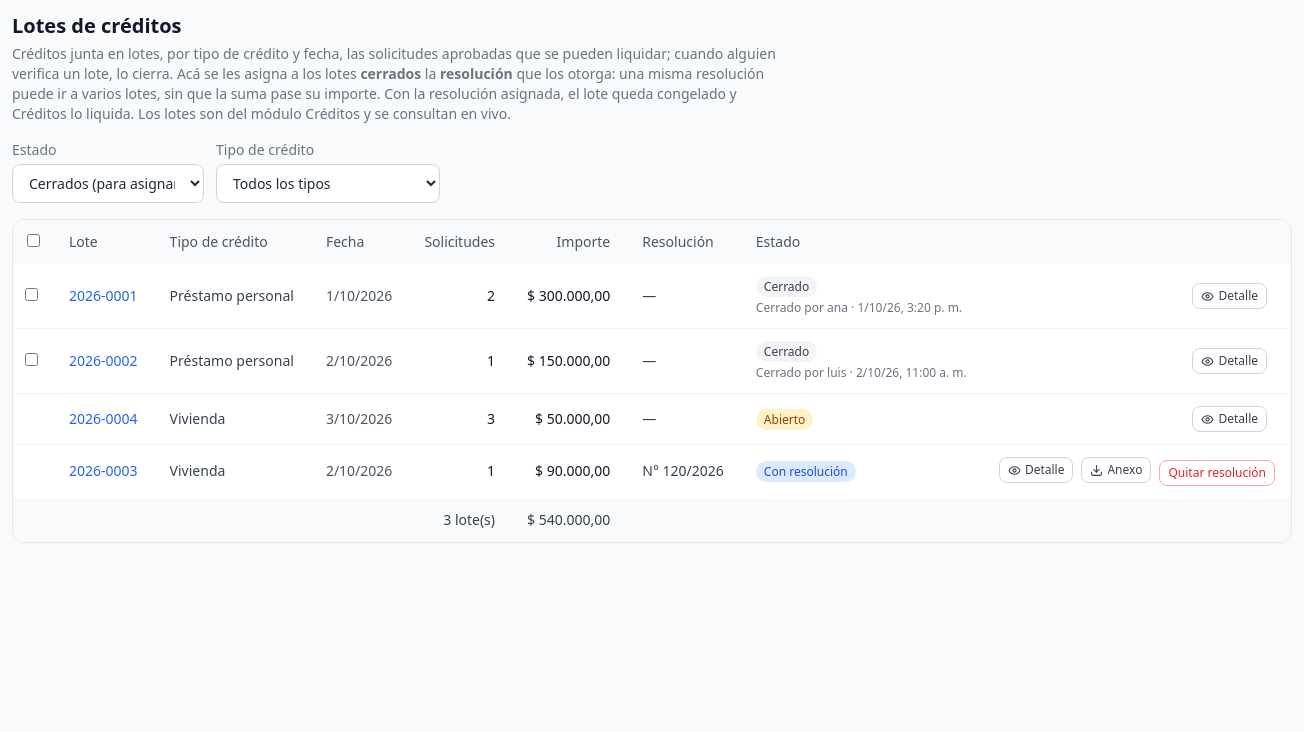
Test: Lotes de créditos (Despacho) › asigna una resolución a los lotes elegidos
This screenshot has width=1304, height=732.
Click the checkbox named "Elegir 2026-0001" at point(32, 294), box [25,288,38,301]
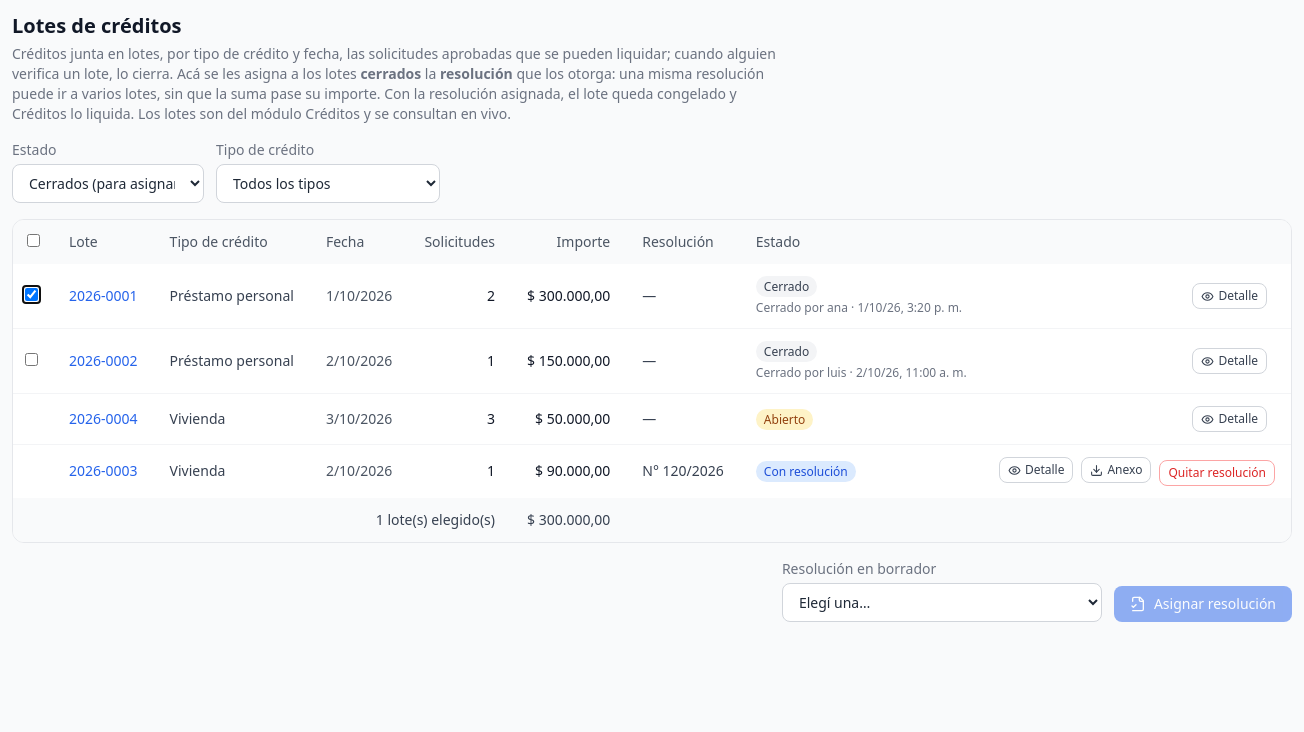
Select "N° 45/2026 · $ 400.000,00 · OTORGAMIENTO" in the dropdown labelled "Resolución en borrador" at point(942, 602), box [782,582,1102,622]
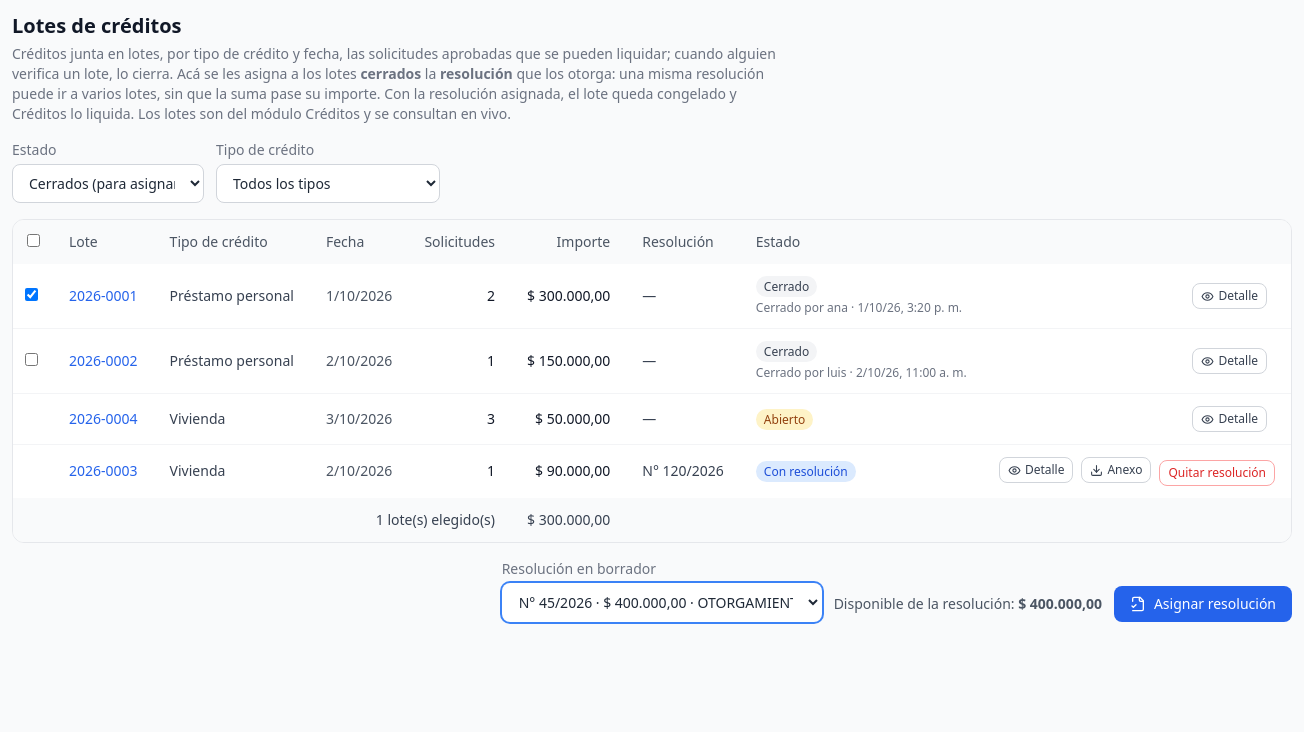
expect the text "Disponible de la resolución: $ 400.000,00" is shown: met, box [834,594,1102,622]
Click the button "Asignar resolución" at point(1203, 604), box [1114,586,1292,622]
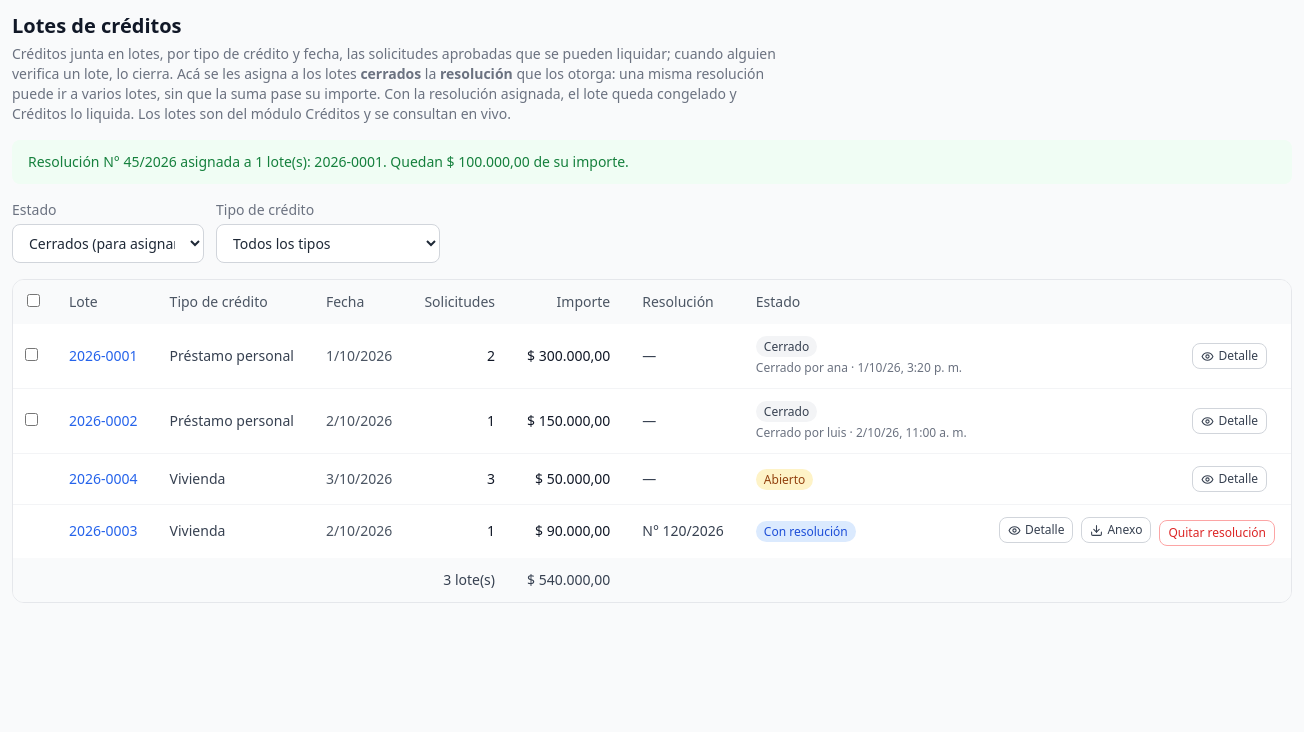
expect the text "asignada a 1 lote(s): 2026-0001" is shown: met, box [28,152,629,171]
